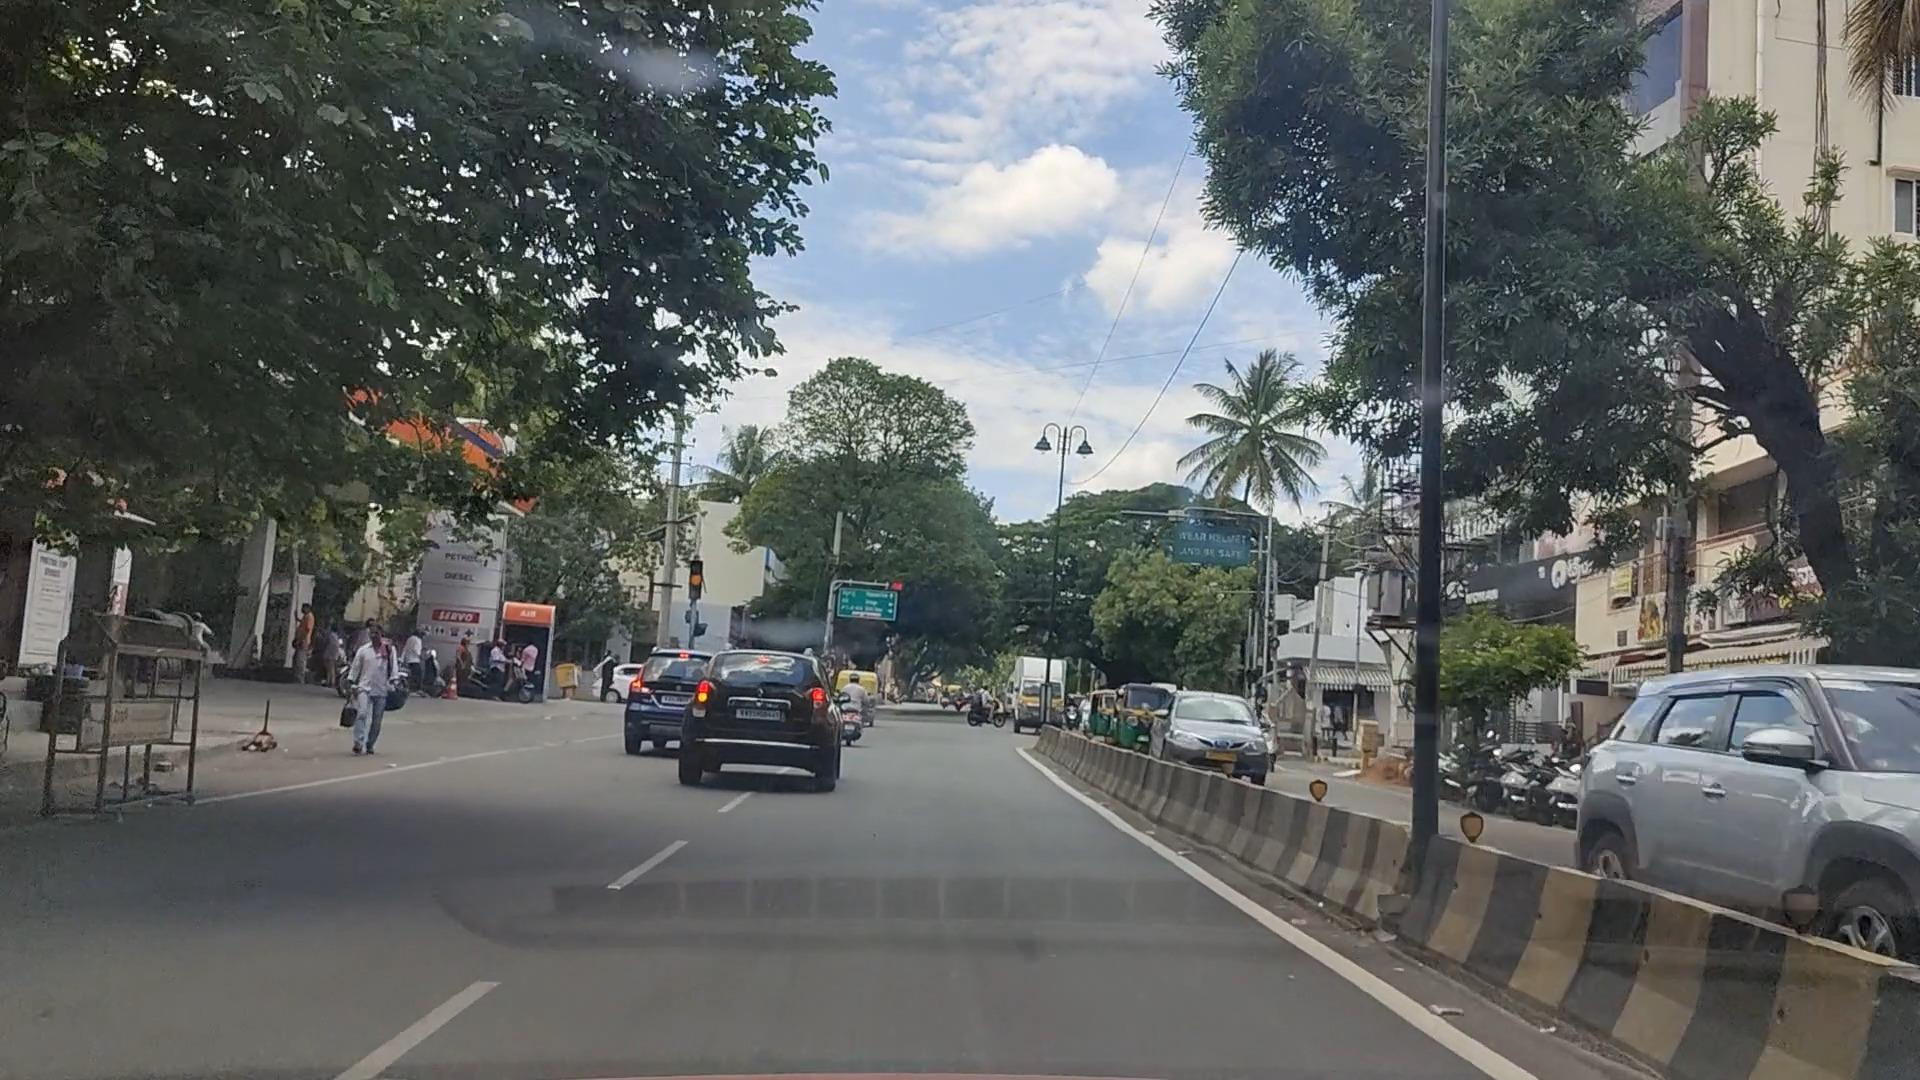LMV: (686, 622, 853, 811)
